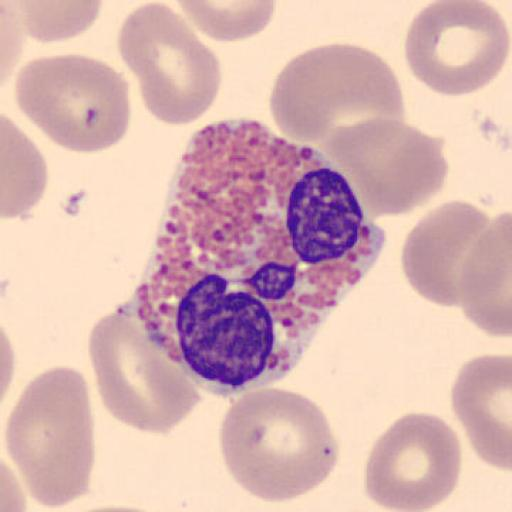RBC: (270, 41, 404, 151), (218, 386, 341, 504), (88, 311, 202, 435), (116, 0, 222, 128), (4, 365, 96, 511), (319, 116, 450, 217), (14, 52, 132, 154), (403, 0, 511, 99), (400, 199, 494, 307), (361, 411, 462, 511), (449, 352, 512, 473), (459, 208, 512, 338), (1, 114, 50, 222), (173, 0, 278, 42), (12, 0, 106, 44), (0, 0, 25, 87), (0, 319, 18, 433), (0, 454, 28, 512), (0, 323, 17, 410), (57, 503, 175, 512)
WBC: (136, 109, 390, 396), (151, 117, 387, 323)
